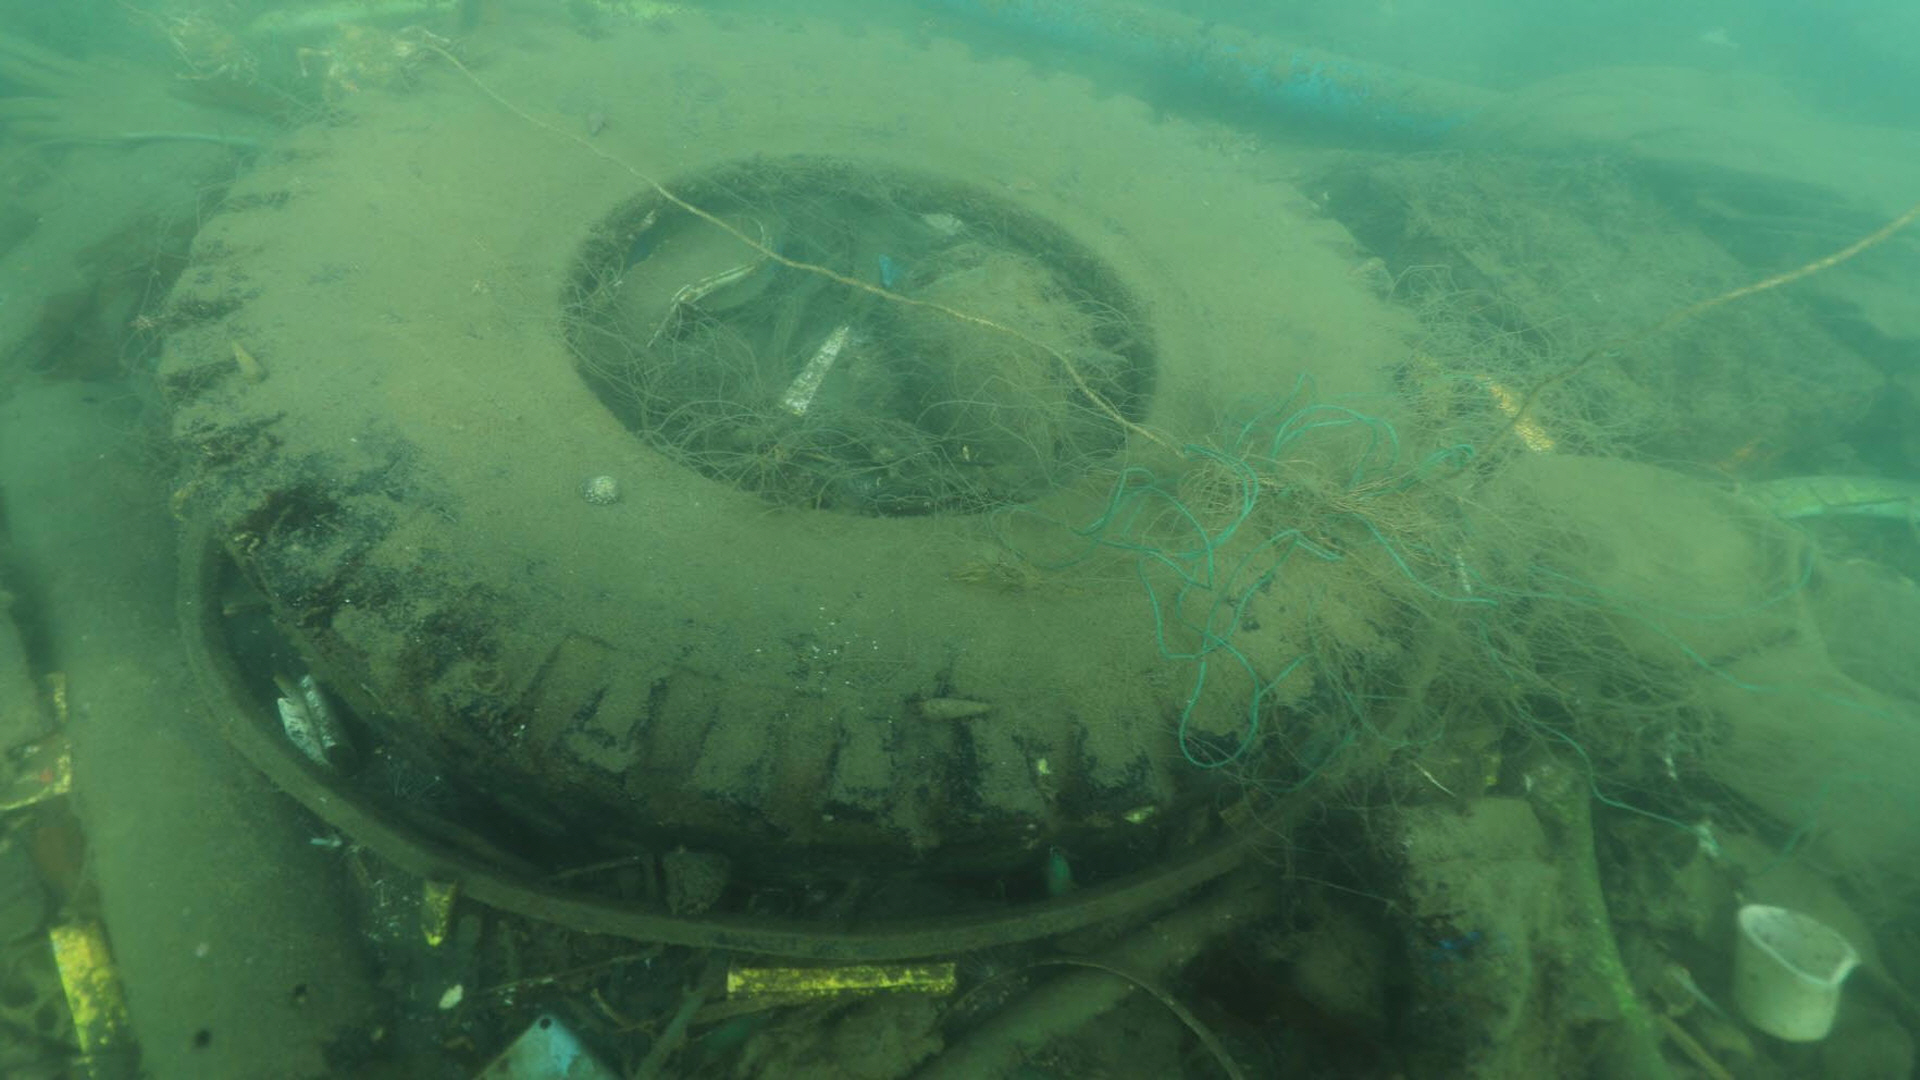eel fish trap: (0, 372, 369, 1080)
tire: (160, 25, 1424, 873)
